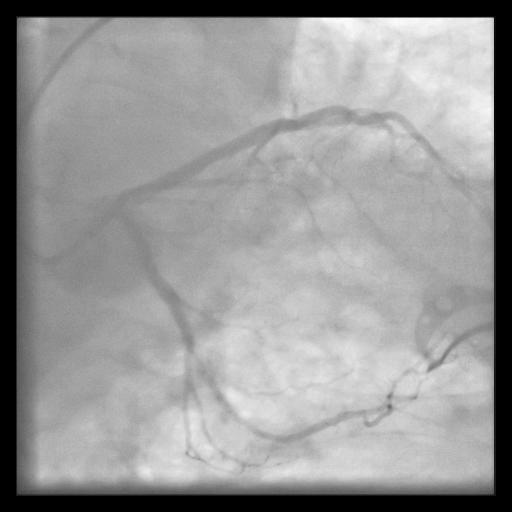Stenosis: (187, 347, 216, 394)
